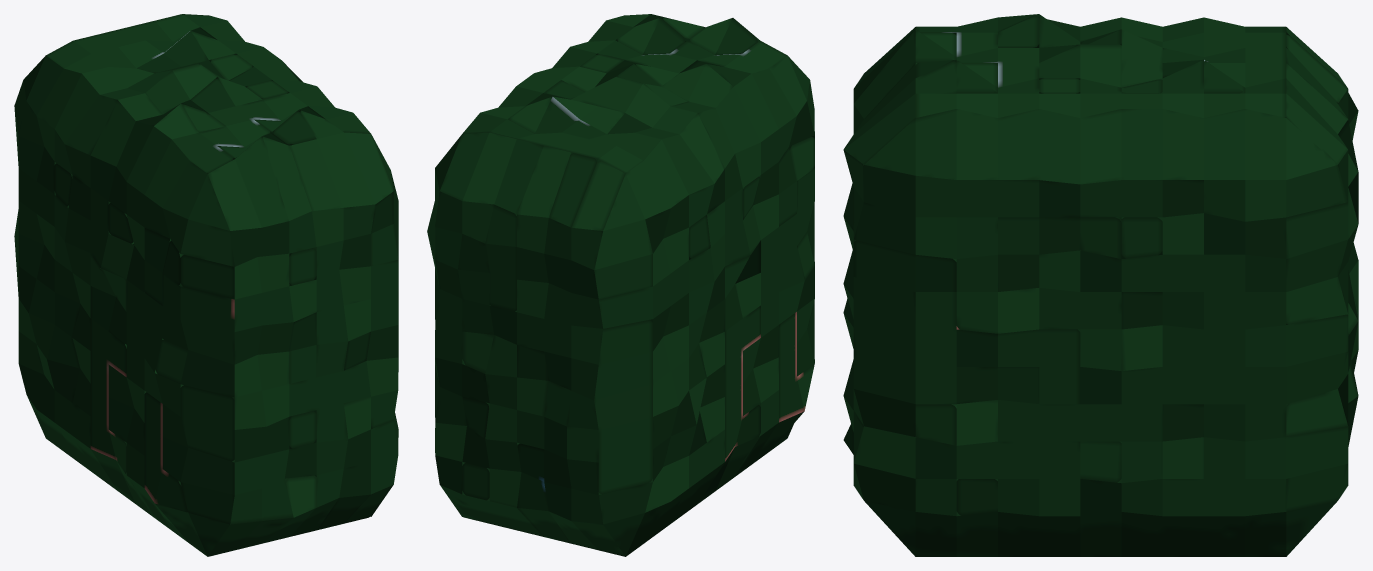
Rendered from Hedge_LongTall.obj.
3 renders of one model, left to right at view 1: azimuth 30°, elevation 25°; view 2: azimuth 150°, elevation 25°; view 3: azimuth 270°, elevation 25°, orthographic. The views are drawn at different scales.
Parts seen in each view (by area): view 1: inner; view 2: inner; view 3: inner.
Part boxes in pixels (bbox=[...]): inner: bbox=[14, 14, 398, 556]; inner: bbox=[427, 14, 814, 556]; inner: bbox=[843, 14, 1358, 556].
Bounding box in the file's own units: 1.88 × 3.12 × 3.12.
Materials: 1 (1 with a texture image).
